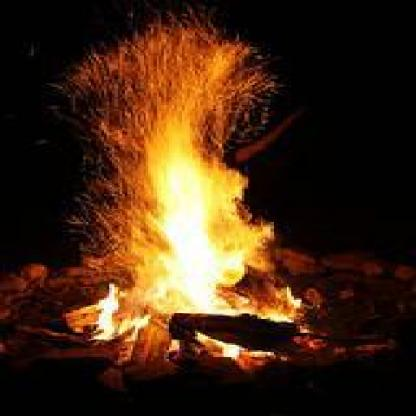fire: (56, 26, 306, 338)
